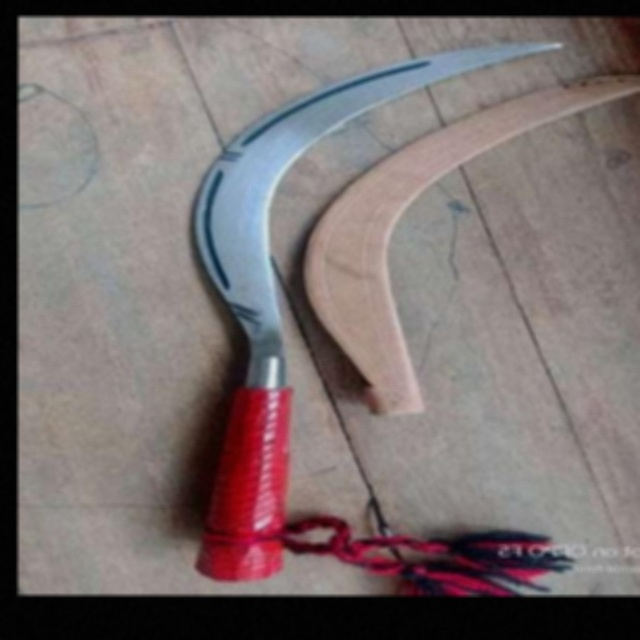Sharp-Object: (171, 37, 566, 578)
